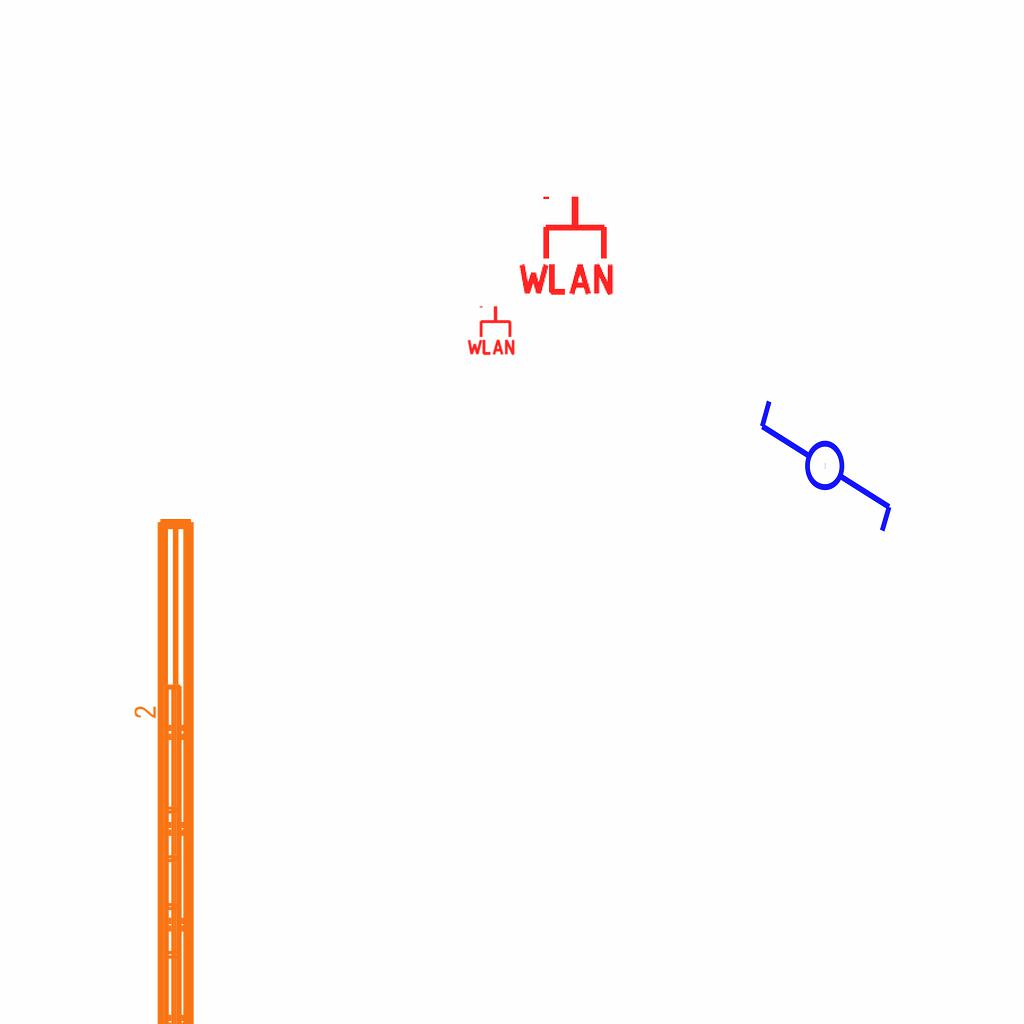Ambulanz_Pendelleuchte_LED: (145, 508, 257, 1024), (132, 680, 188, 1024)
WLAN: (514, 192, 618, 297), (465, 304, 517, 356)
Wechselschalter: (755, 379, 899, 536)
